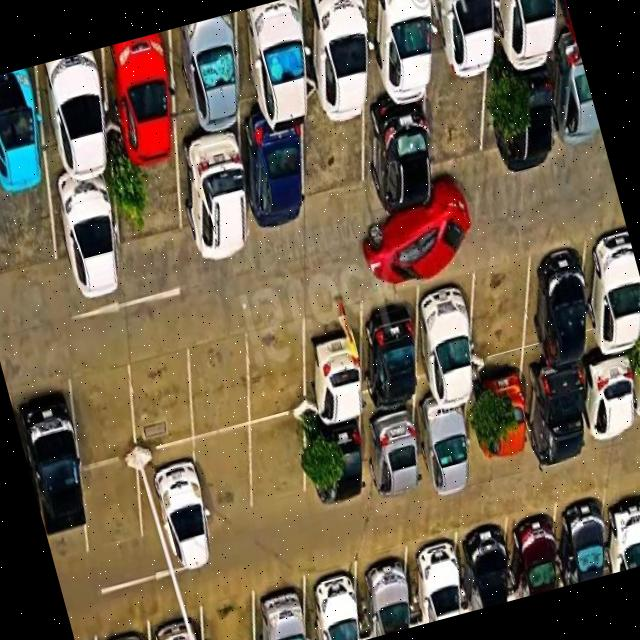Car: (12, 389, 106, 538), (173, 129, 264, 259), (355, 191, 471, 286), (148, 450, 232, 580), (38, 50, 124, 176), (111, 32, 192, 162), (300, 0, 391, 114), (55, 172, 136, 298), (241, 0, 325, 119), (416, 288, 499, 401), (525, 245, 608, 352), (300, 318, 380, 426), (184, 13, 256, 126), (522, 362, 606, 458), (240, 129, 320, 229), (362, 308, 439, 404), (0, 67, 57, 193), (308, 415, 384, 504), (583, 230, 640, 347), (478, 372, 546, 462), (300, 564, 374, 640), (554, 498, 620, 583), (410, 537, 474, 622), (458, 522, 518, 609), (424, 406, 486, 490), (368, 413, 428, 496), (580, 355, 640, 438), (509, 512, 568, 596), (358, 556, 416, 636), (255, 583, 322, 640), (600, 487, 640, 571), (146, 612, 216, 640)
